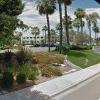Palm tree: (32, 1, 87, 50)
